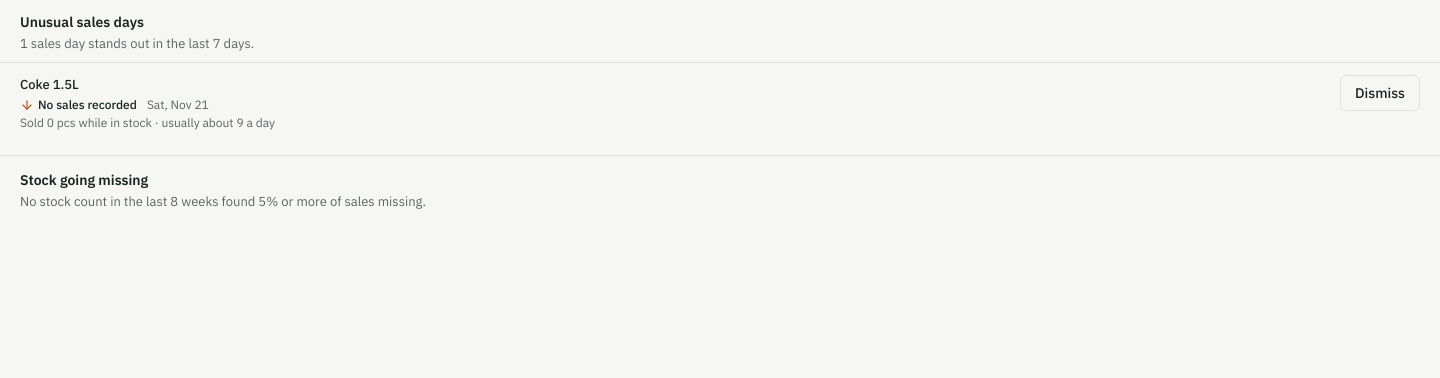
Test: WorthALookList › keeps the form open with the API's message when the dismissal is refused
Click the button with aria-label "Dismiss alert for" at coordinates (1380, 93), box [1340, 75, 1420, 111]
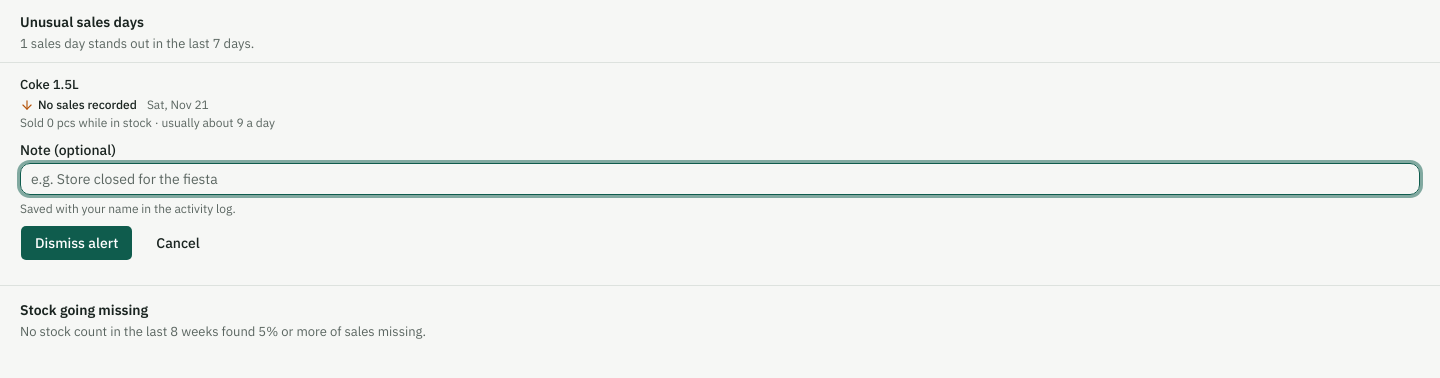
Click the button "Dismiss alert" at coordinates (77, 243), box [20, 225, 133, 261]
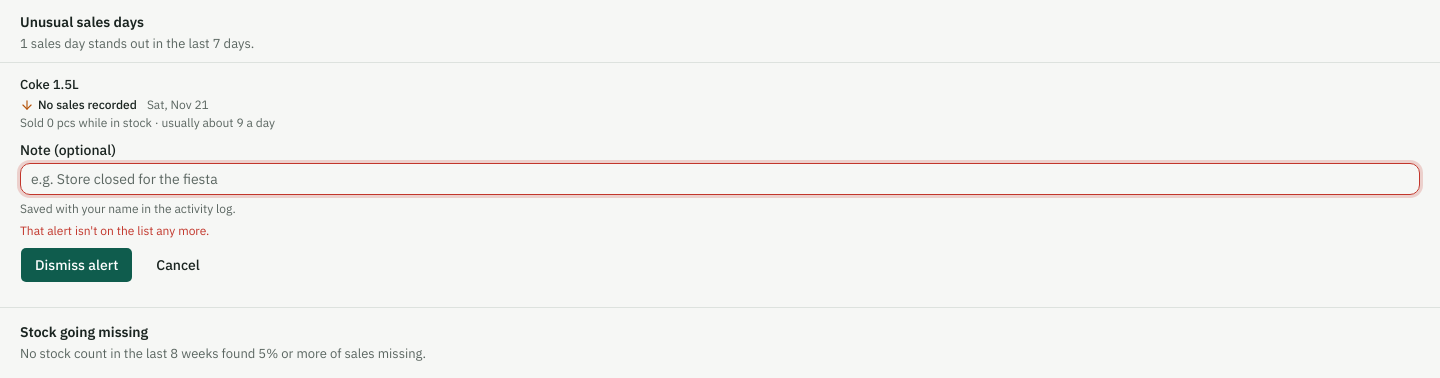
Expected: the message reads "That alert isn't on the list any more.", [20, 223, 209, 238]
